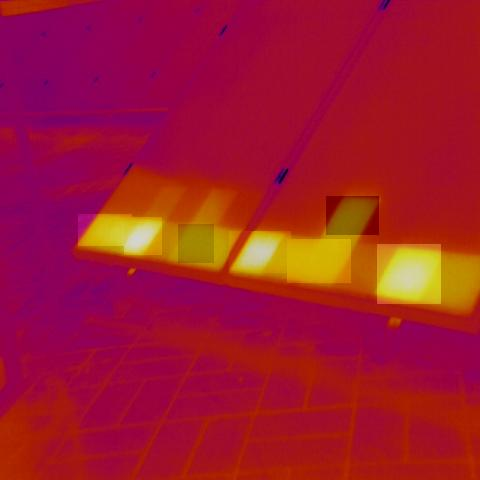fault: (377, 244, 441, 304), (287, 239, 351, 283), (230, 231, 292, 273), (326, 196, 379, 235), (78, 214, 132, 246), (125, 217, 162, 255), (178, 224, 214, 263)
